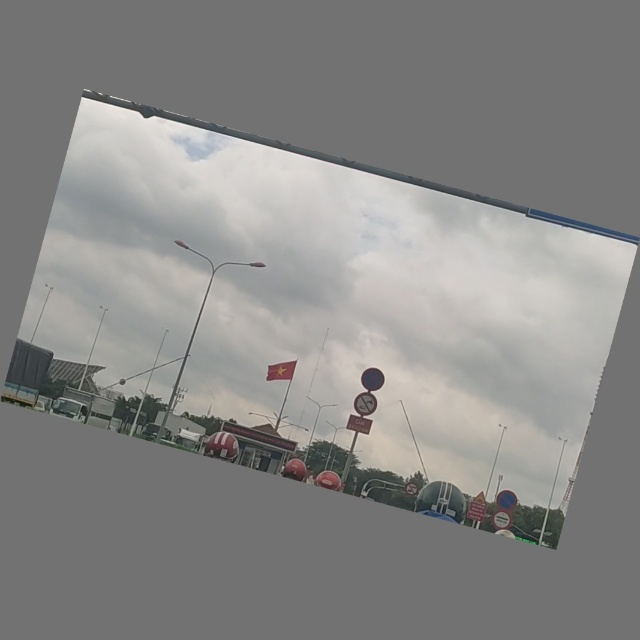P.107: (404, 482, 419, 498)
P.111: (352, 391, 379, 419)
P.129: (491, 510, 514, 533)
P.130: (358, 365, 388, 394)
P.131a: (495, 489, 520, 514)
W.221b: (473, 490, 488, 506)
